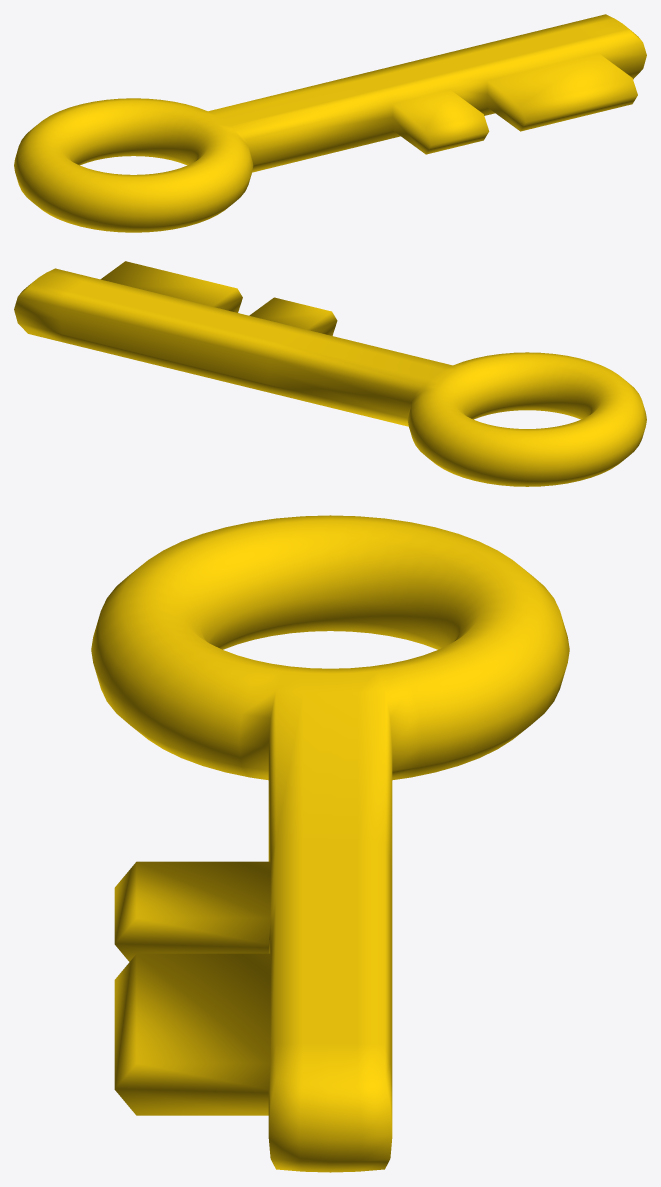
The model's file is BigKey.fbx.
3 renders of one model, top to bottom at view 1: azimuth 30°, elevation 25°; view 2: azimuth 150°, elevation 25°; view 3: azimuth 270°, elevation 25°, orthographic. The views are drawn at different scales.
Visible parts, largest first — view 1: BigKey; view 2: BigKey; view 3: BigKey.
Boxes of the visible parts, left/top/right/bottom form: BigKey: left=14, top=14, right=646, bottom=232; BigKey: left=14, top=261, right=646, bottom=486; BigKey: left=91, top=515, right=569, bottom=1172.
Bounding box in the file's own units: 4.36 × 1.49 × 0.3622.
